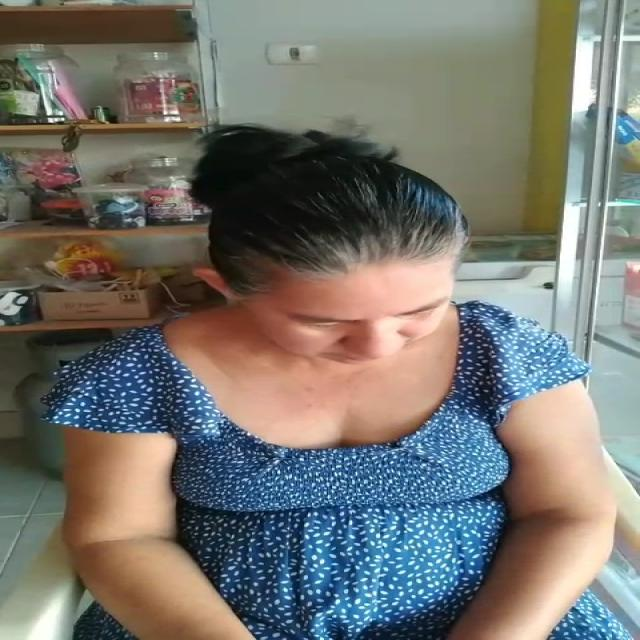9_cabeza_baja: (189, 122, 468, 364)
